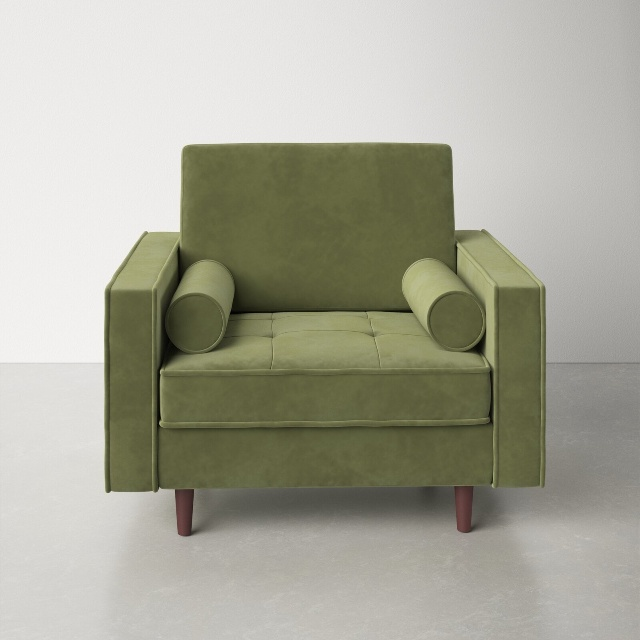obstacle: (105, 143, 544, 534)
